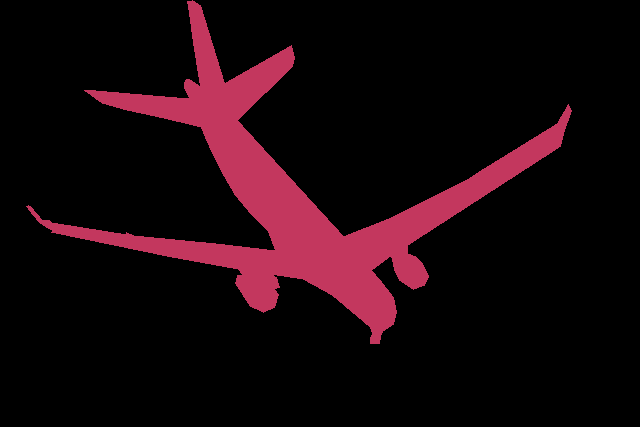Airplane: (26, 0, 572, 343)
